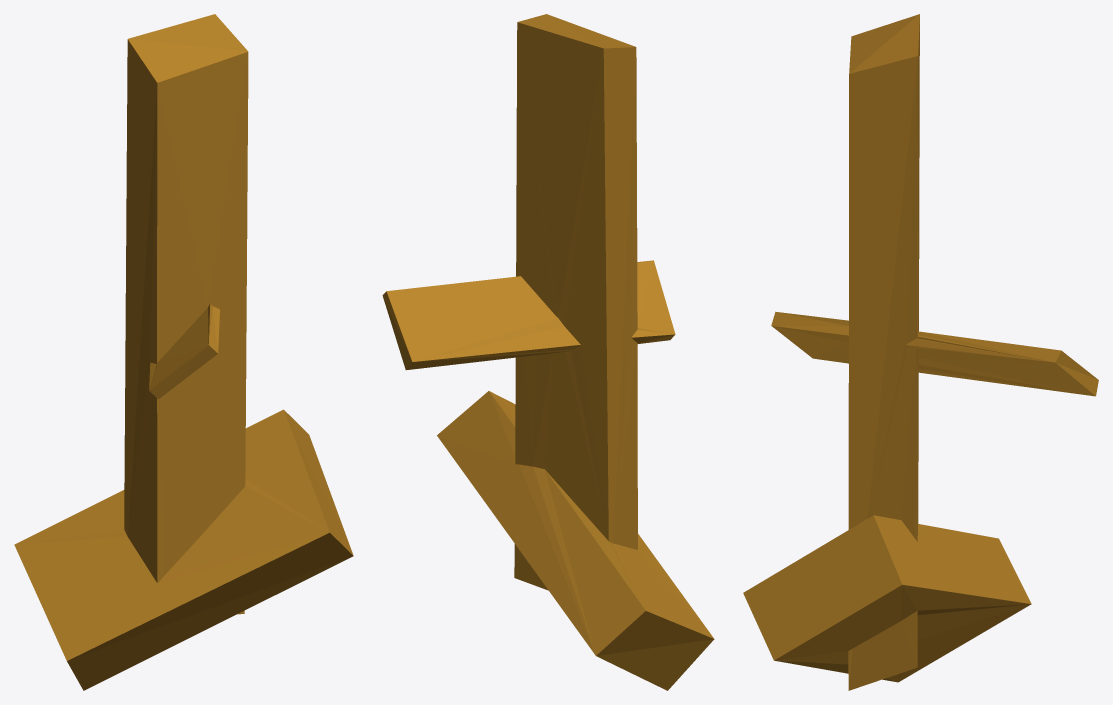
3 views of the same model, side by side, from view 1: azimuth 30°, elevation 25°; view 2: azimuth 150°, elevation 25°; view 3: azimuth 270°, elevation 25° (orthographic). The views are drawn at different scales.
Visible parts, largest first — view 1: 136_Cube.565; view 2: 136_Cube.565; view 3: 136_Cube.565.
Boxes of the visible parts, box(x1,y1,x2,y2) form: 136_Cube.565: box(14, 14, 353, 690); 136_Cube.565: box(382, 14, 714, 690); 136_Cube.565: box(743, 14, 1098, 690).
Size of the model in its own units: 5.93 by 13.93 by 6.4.
